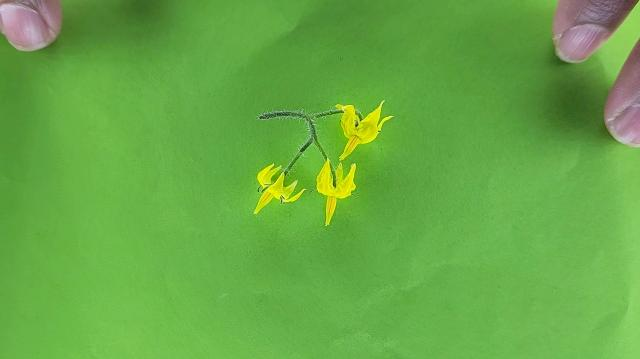Anthesis: (335, 97, 393, 162), (251, 161, 308, 216), (314, 155, 357, 222)
